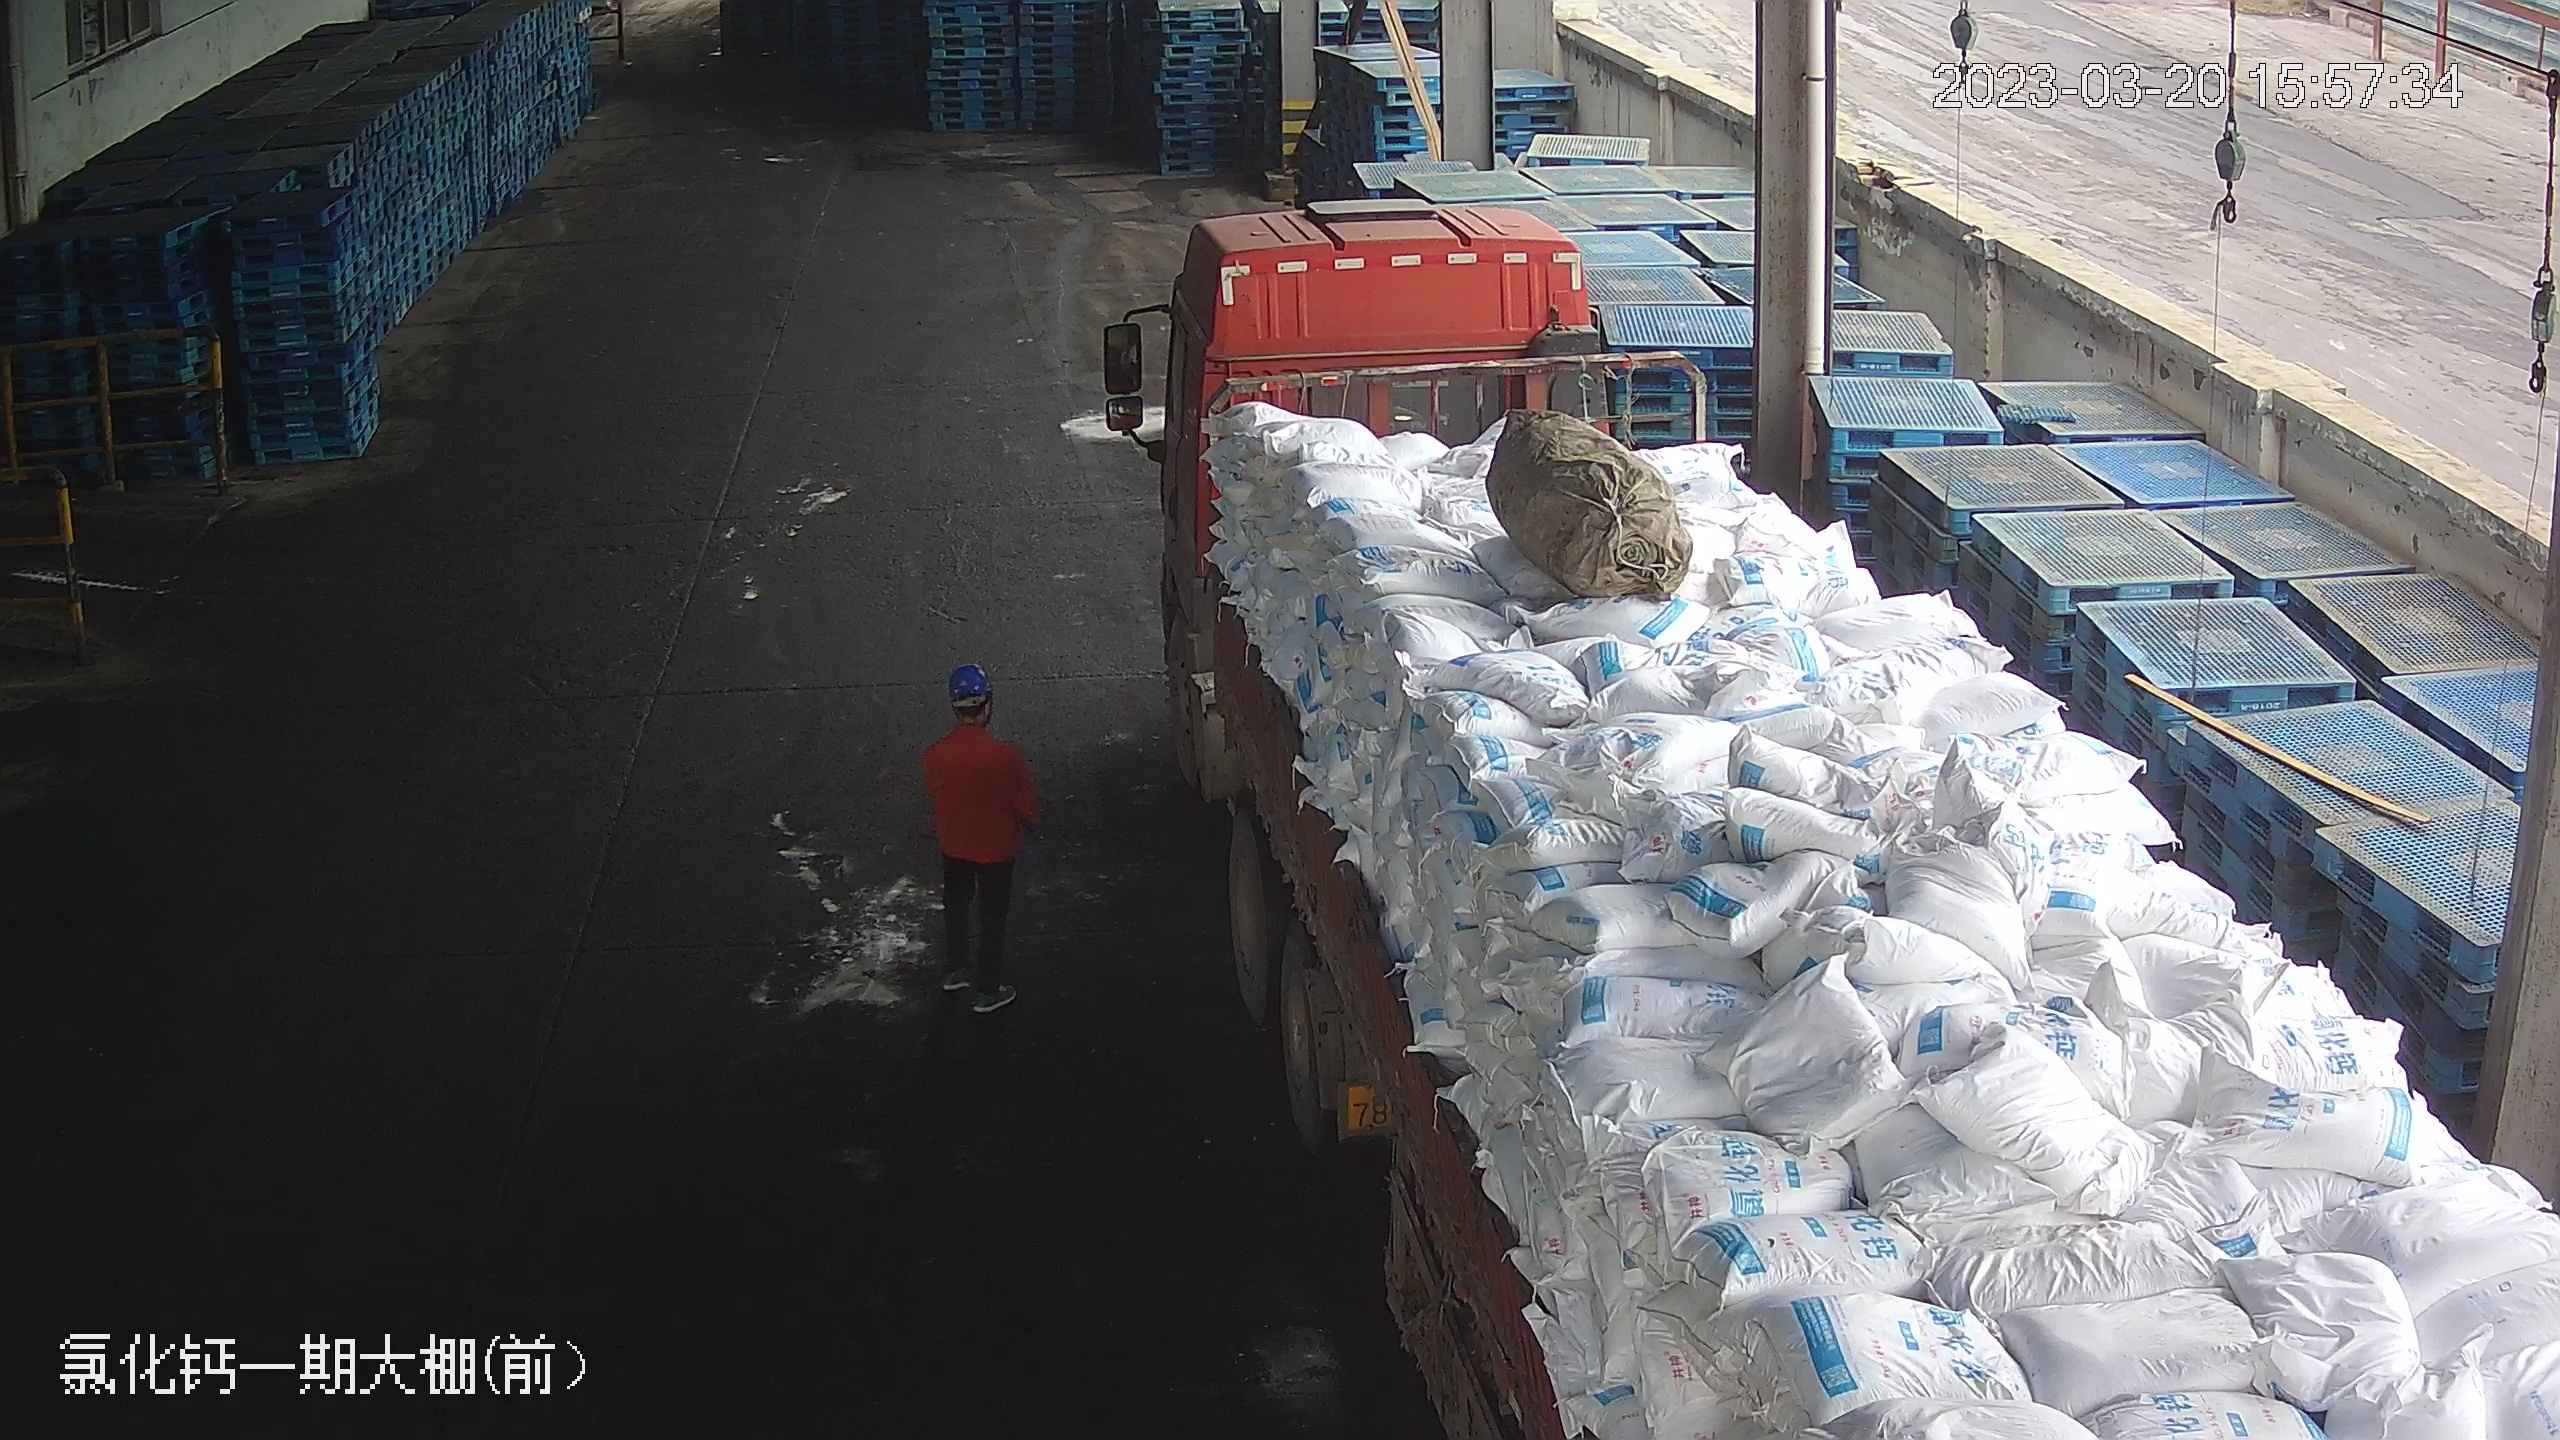head: (921, 659, 1026, 775)
helmet: (942, 658, 992, 701)
people: (915, 651, 1042, 1017)
truck: (1104, 155, 2510, 1440)
